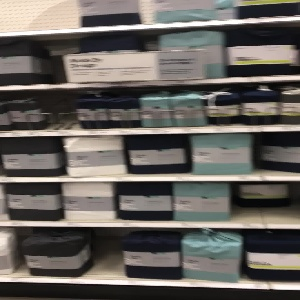void: (230, 182, 300, 226), (2, 1, 79, 31), (87, 228, 129, 276)
